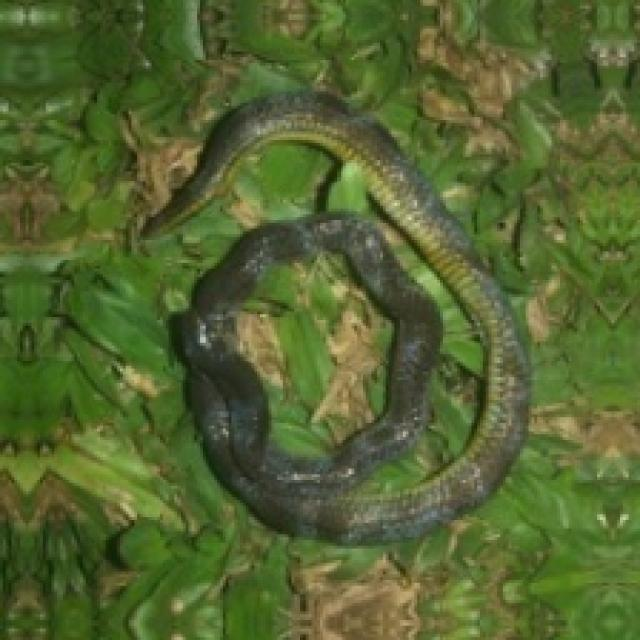gervais worm snake: (143, 91, 526, 543)
